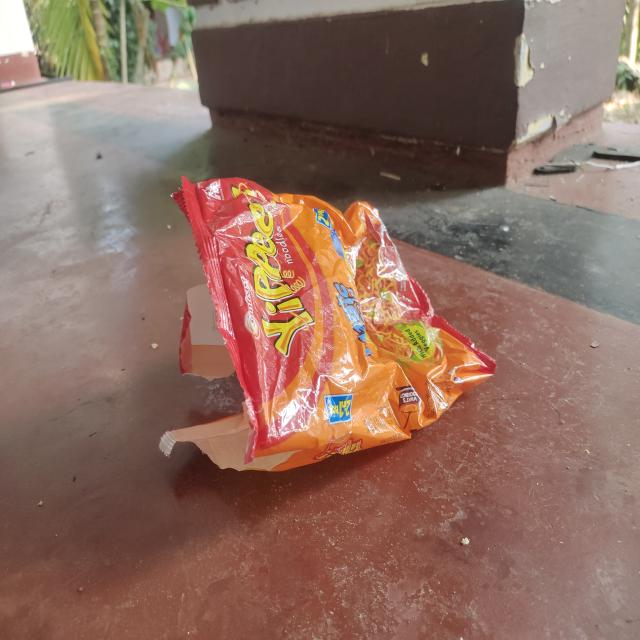plastic: (152, 171, 499, 479)
